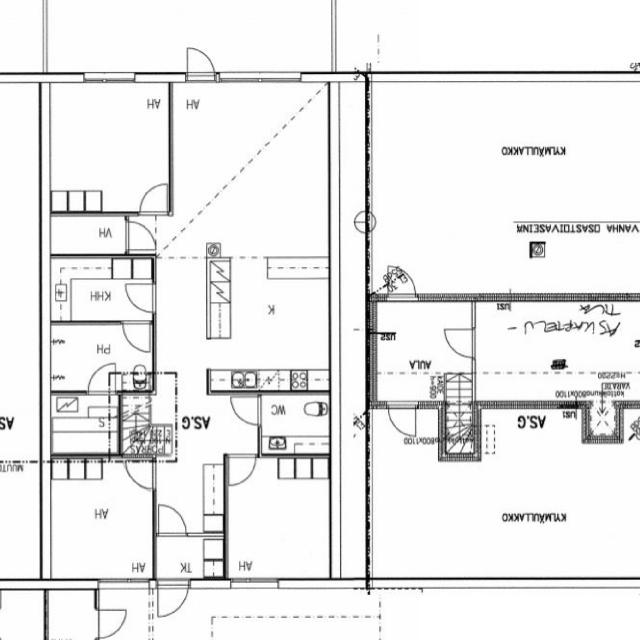door: (158, 579, 188, 620), (187, 44, 214, 82), (387, 265, 415, 301), (94, 610, 126, 639), (389, 401, 415, 436), (122, 321, 150, 353), (124, 222, 156, 250), (158, 505, 186, 537), (140, 183, 167, 216), (125, 284, 156, 312), (126, 461, 156, 489), (232, 397, 262, 425), (88, 364, 115, 395), (229, 455, 256, 486), (446, 330, 476, 357)
